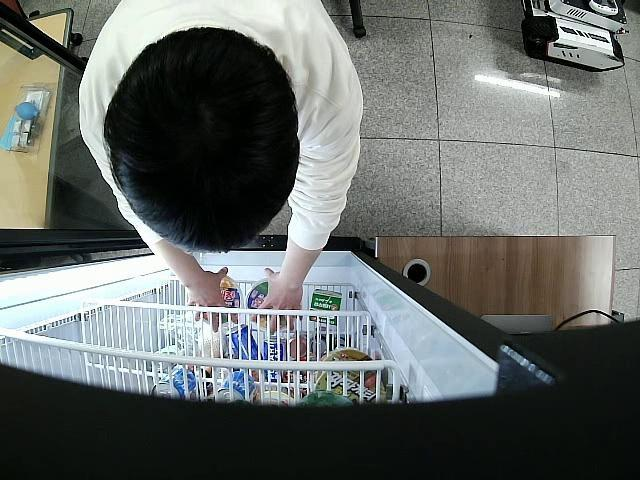09_yukGaeJang: (193, 276, 244, 330), (247, 280, 288, 330)
